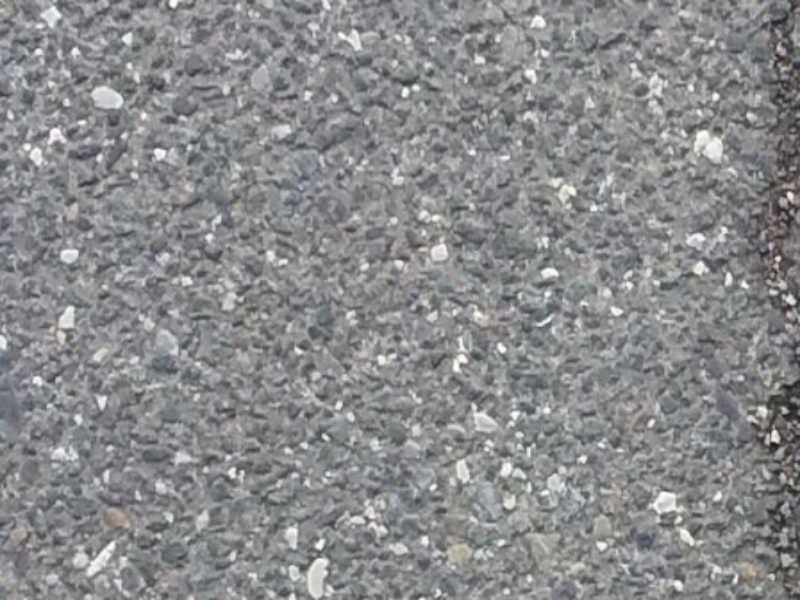crack: (736, 14, 797, 596)
